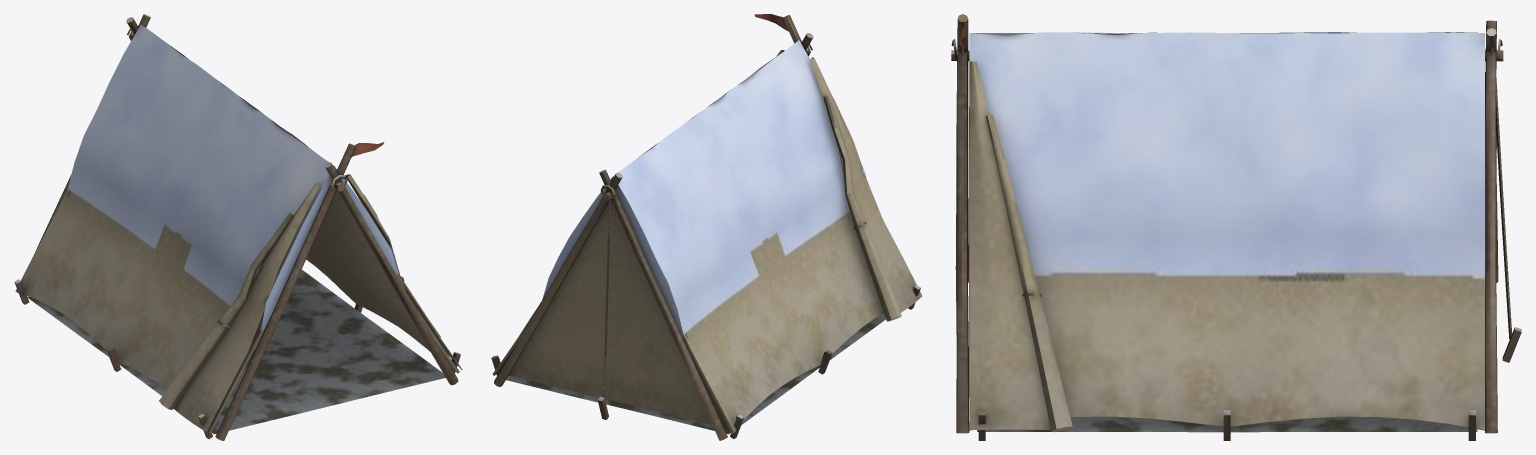
File: fm_tent_aframe_snow.glb
3 views of the same model, side by side, from view 1: azimuth 30°, elevation 25°; view 2: azimuth 150°, elevation 25°; view 3: azimuth 270°, elevation 25° (orthographic). The views are drawn at different scales.
Parts seen in each view (by area): view 1: fm_tent_aframe_snow; view 2: fm_tent_aframe_snow; view 3: fm_tent_aframe_snow.
Boxes of the visible parts, bbox=[...] form: fm_tent_aframe_snow: bbox=[14, 14, 462, 440]; fm_tent_aframe_snow: bbox=[491, 14, 922, 440]; fm_tent_aframe_snow: bbox=[951, 14, 1521, 440].
Bounding box in the file's own units: 1.67 × 1.52 × 2.21.
Materials: 1 (1 with a texture image).
